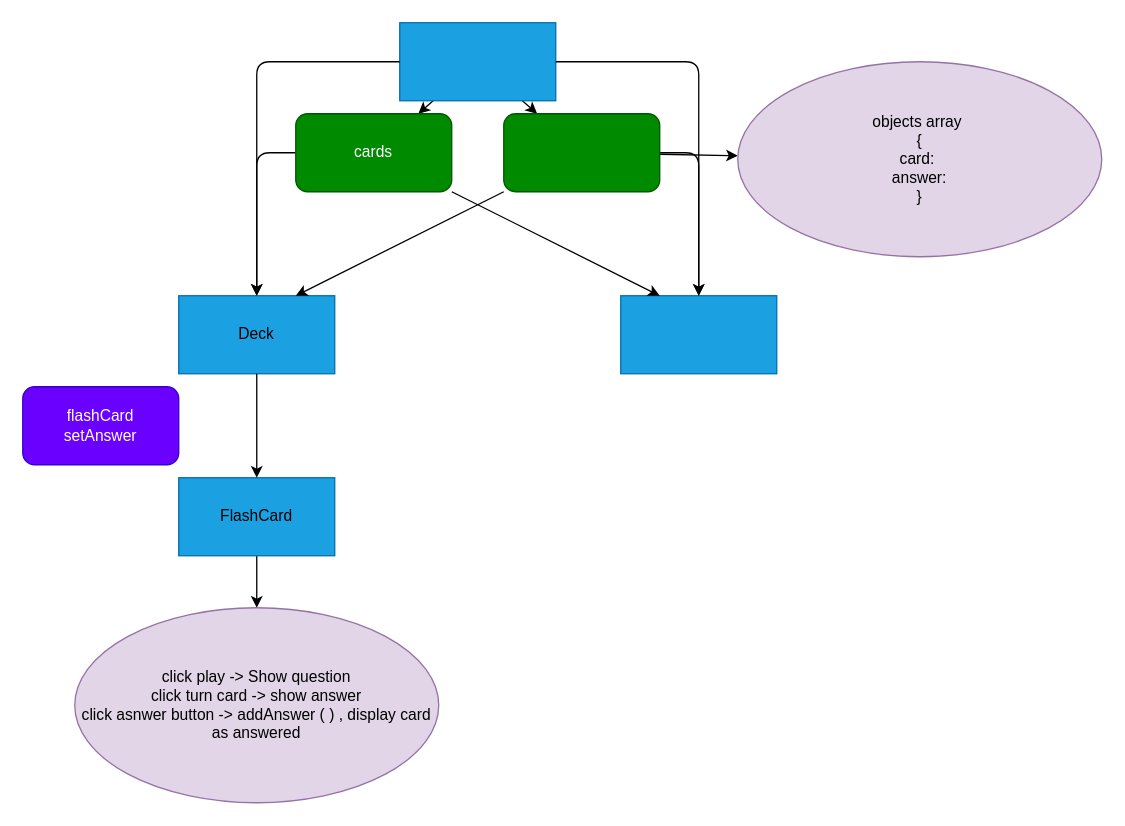
Image size: 1125x826. Some labels were removed from this diagram. Here are the shapes that lost their labels. From the top down, the centre of each, then its label:
point 477,61: App
point 581,152: answers
point 698,334: DeckResult
